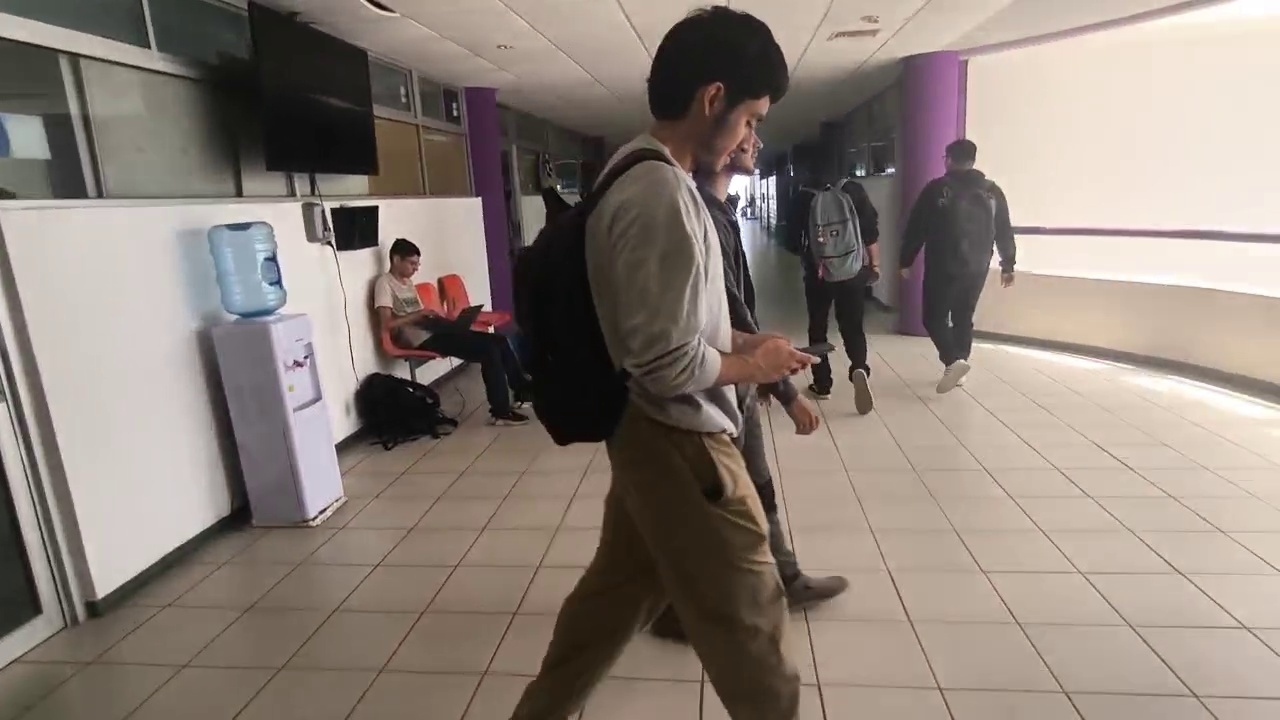mixto2: (789, 329, 838, 359)
